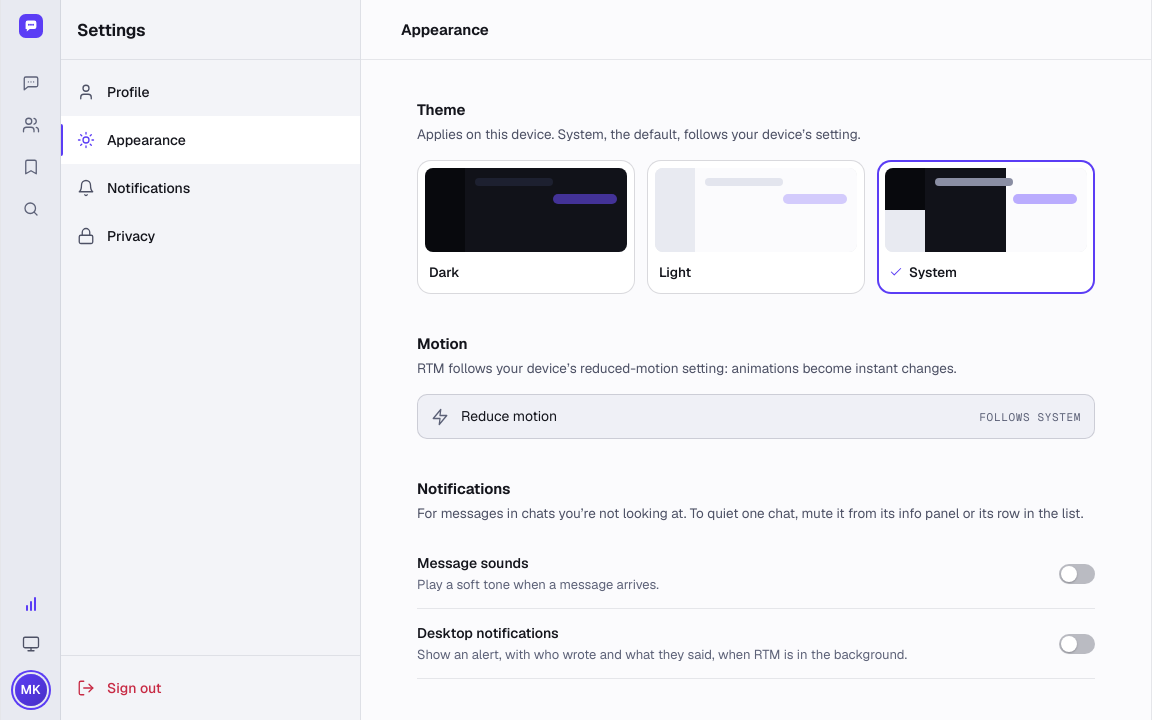
Test: SettingsPage › desktop notifications › stays off, and says where to change it, when the browser says no
Click the switch named "Desktop notifications" in the row of "Desktop notifications": (1077, 644) [1059,634,1095,654]
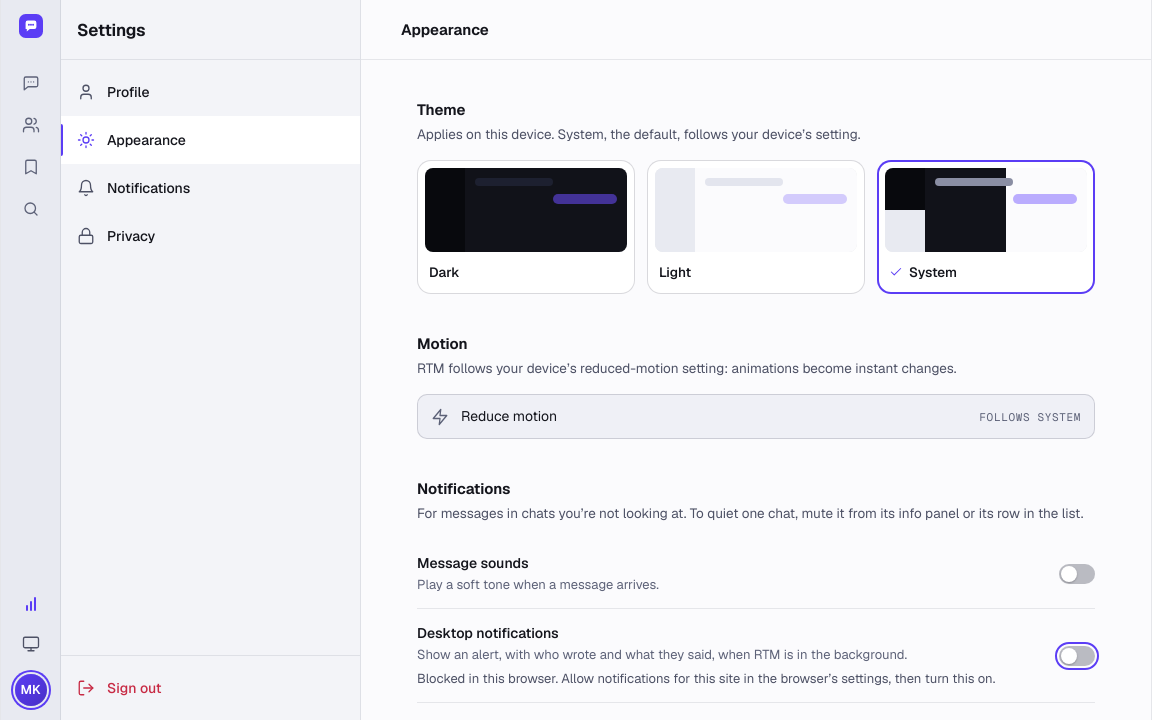
Result: the text "Blocked in this browser" is shown at [417,670,995,687]
